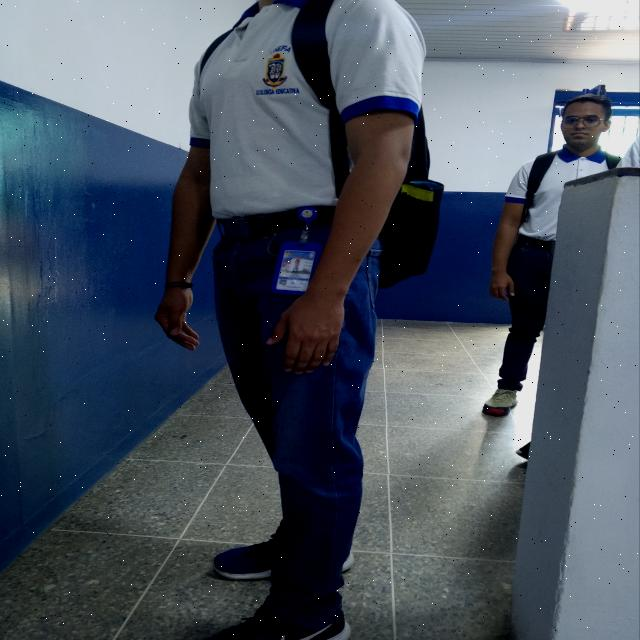carnet: (276, 250, 316, 292)
pantalon_oscuro: (212, 224, 383, 622), (496, 242, 640, 391)
uniforme_superior: (189, 0, 420, 219), (504, 144, 628, 241)
